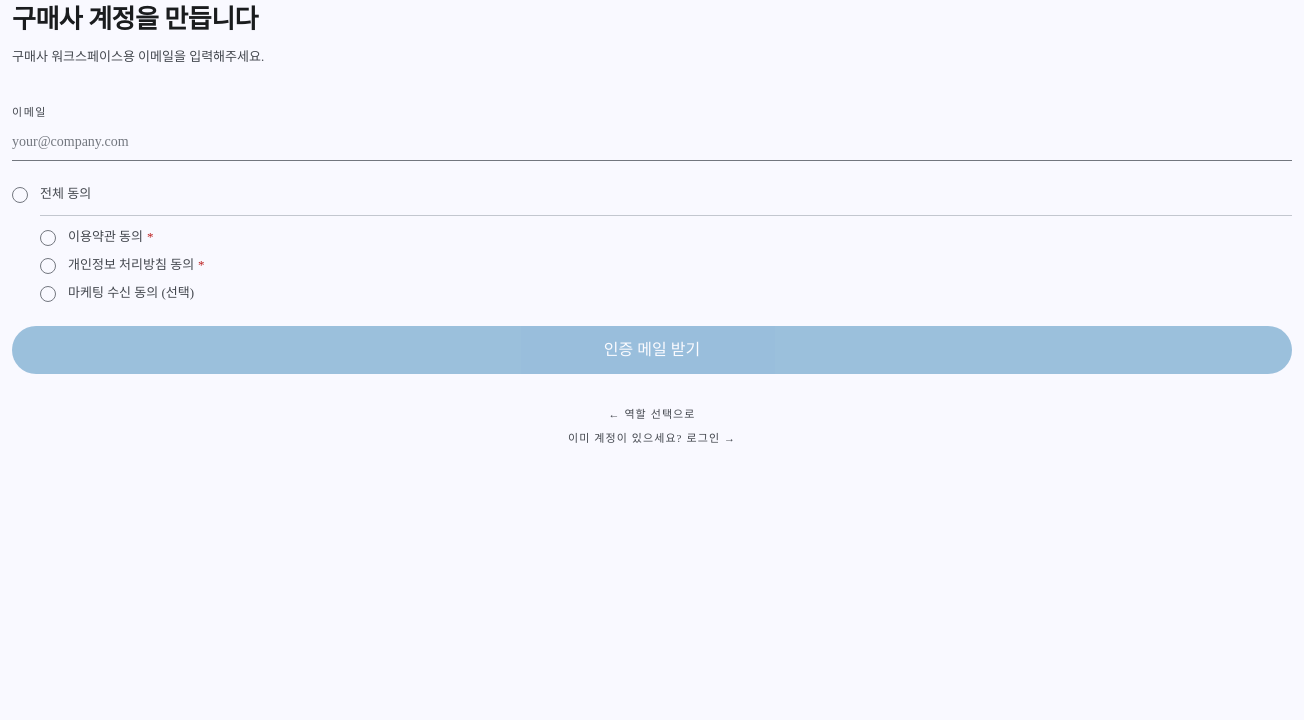
Test: BuyerSignupEmailPage — EMAIL_TAKEN 안내 › EMAIL_TAKEN 시 이미 가입된 이메일 메시지를 표시한다
In the field labelled "이메일": (652, 142) x1=12 y1=122 x2=1292 y2=160, type "kim@example.com"
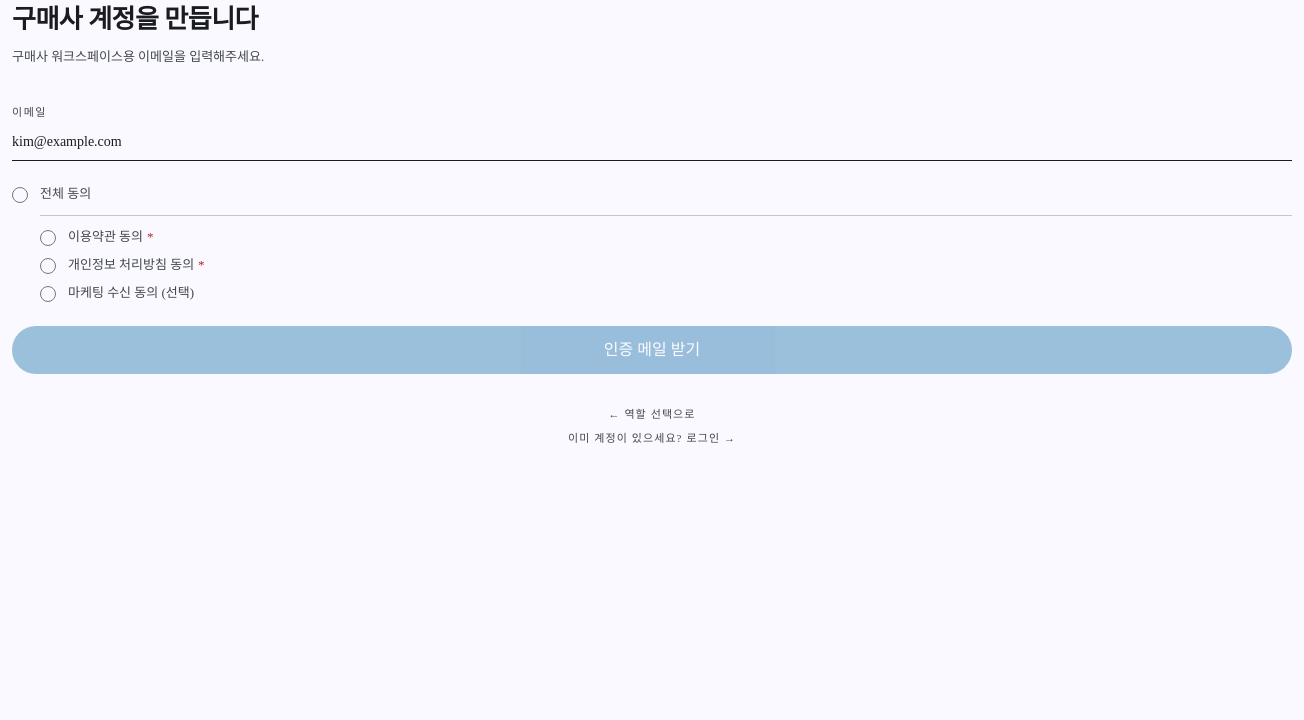
Click the checkbox labelled "이용약관 동의*": (97, 237) x1=40 y1=228 x2=154 y2=246
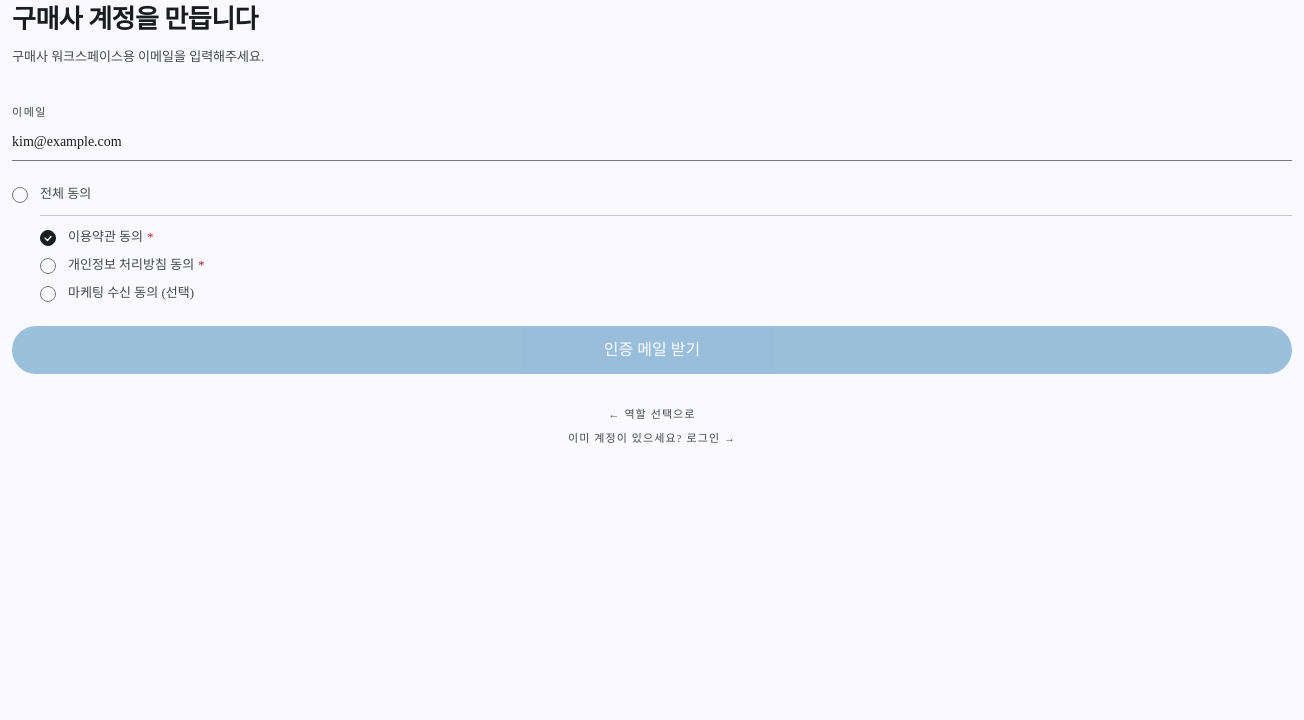
Click the checkbox labelled "개인정보 처리방침 동의*": (122, 265) x1=40 y1=256 x2=205 y2=274
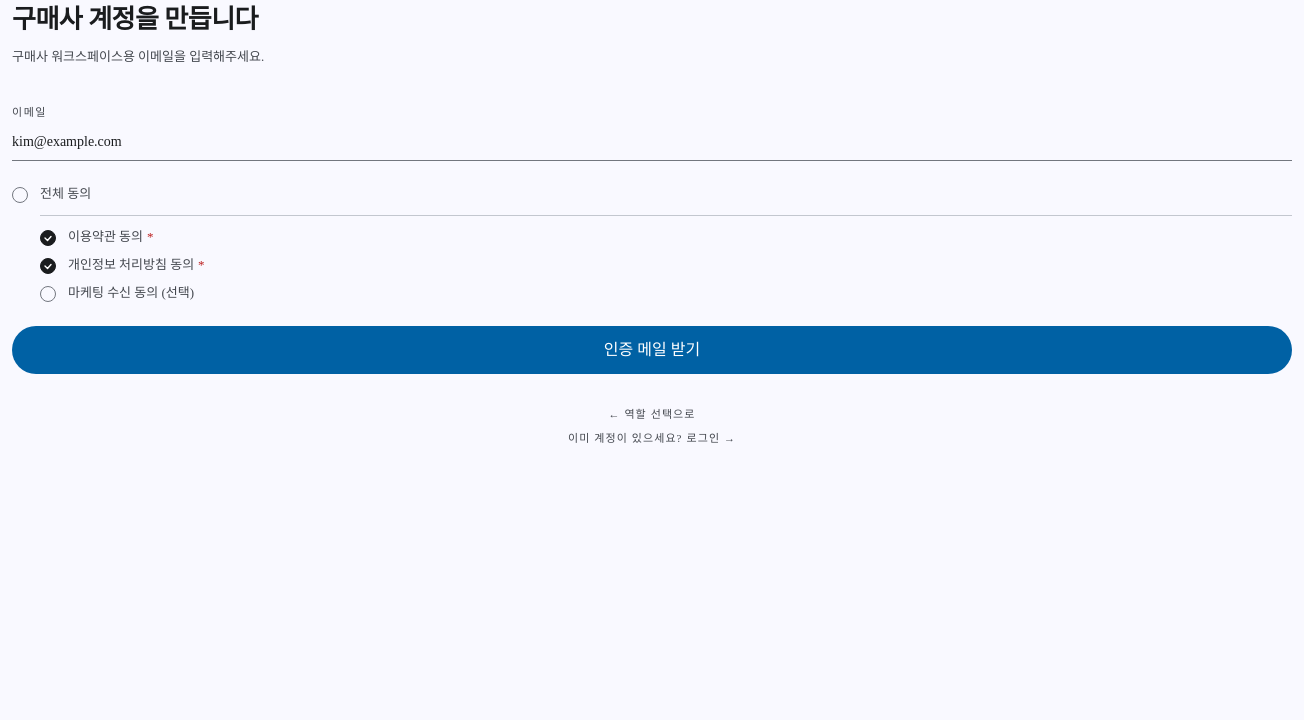
Submit the form, box x1=12 y1=98 x2=1292 y2=374
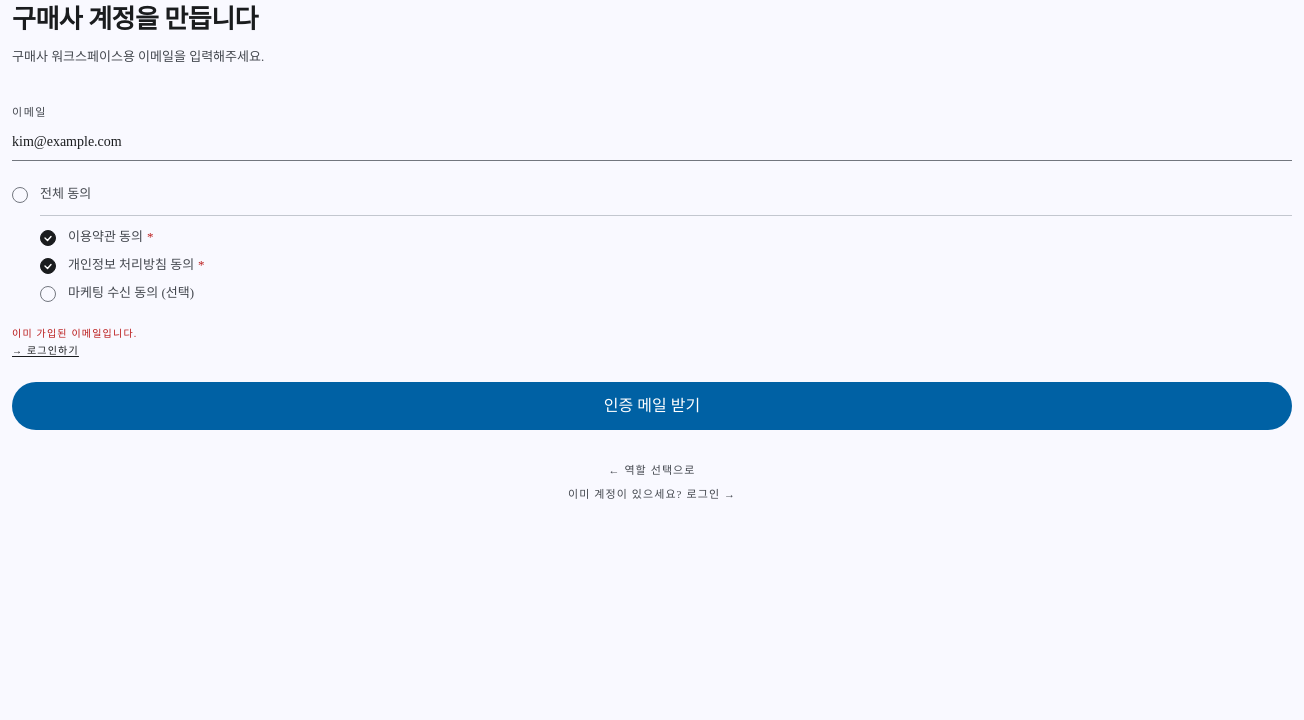
Result: the text "이미 가입된 이메일입니다." is shown at x1=12 y1=328 x2=138 y2=338
